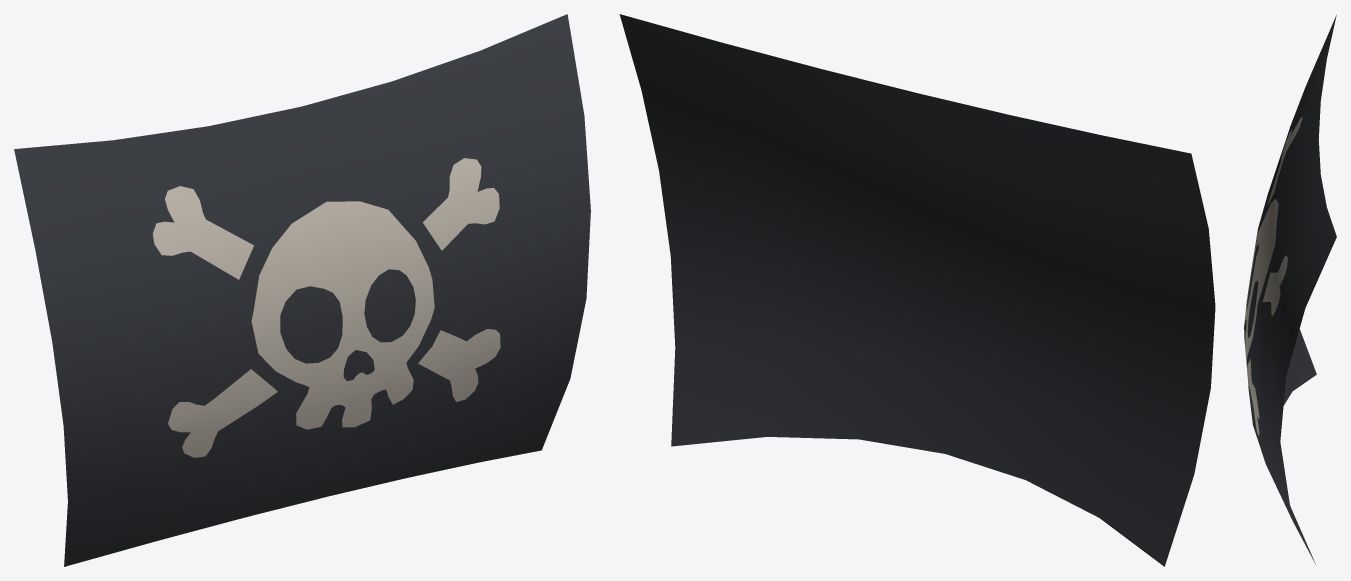
The model's file is Sail_Custom_01.fbx.
The picture shows the model from 3 angles, left to right: view 1: azimuth 30°, elevation 25°; view 2: azimuth 150°, elevation 25°; view 3: azimuth 270°, elevation 25°; orthographic projection. The views are drawn at different scales.
Visible parts, largest first — view 1: Sail_Custom_01; view 2: Sail_Custom_01; view 3: Sail_Custom_01.
Boxes of the visible parts, left/top/right/bottom form: Sail_Custom_01: left=14, top=14, right=590, bottom=566; Sail_Custom_01: left=619, top=14, right=1215, bottom=566; Sail_Custom_01: left=1244, top=15, right=1336, bottom=564.
Size of the model in its own units: 411 by 297 by 72.36.
